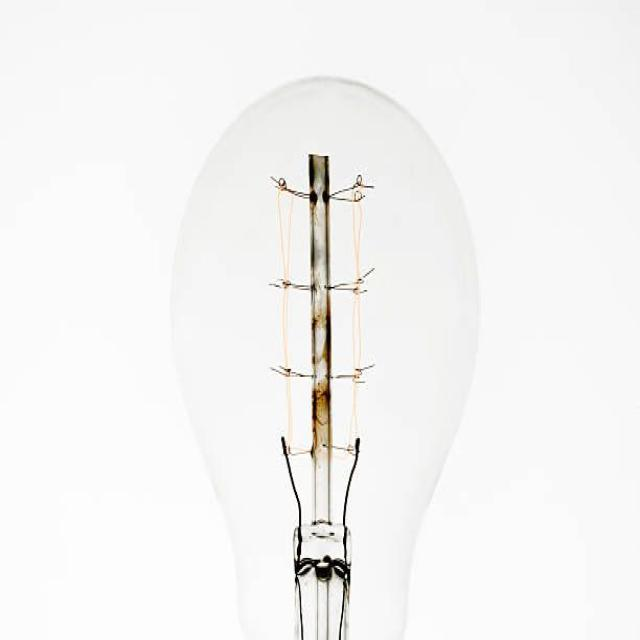electronic: (169, 72, 480, 637)
